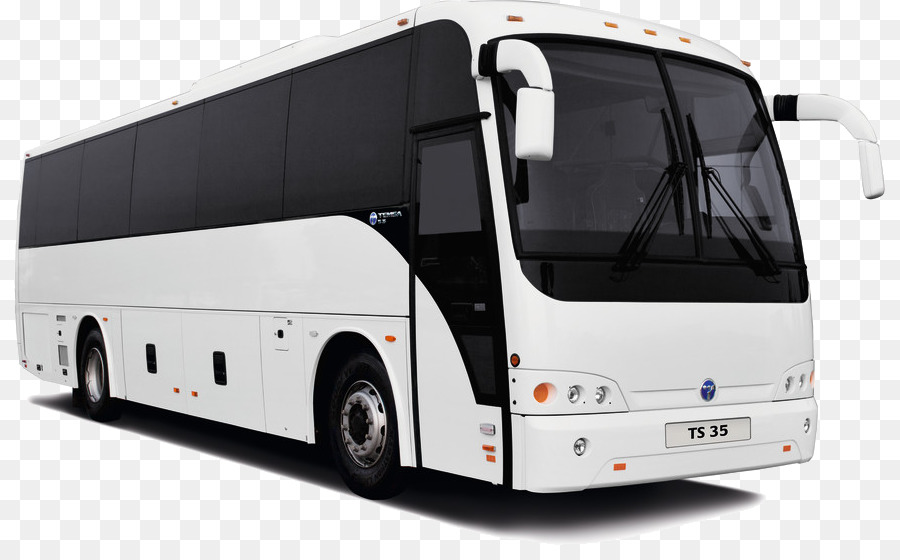bus: (19, 1, 821, 501)
